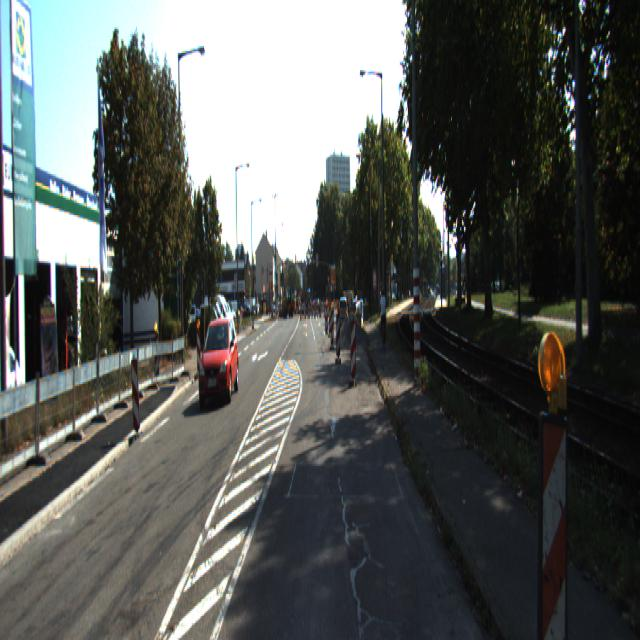Car: (195, 314, 243, 406)
